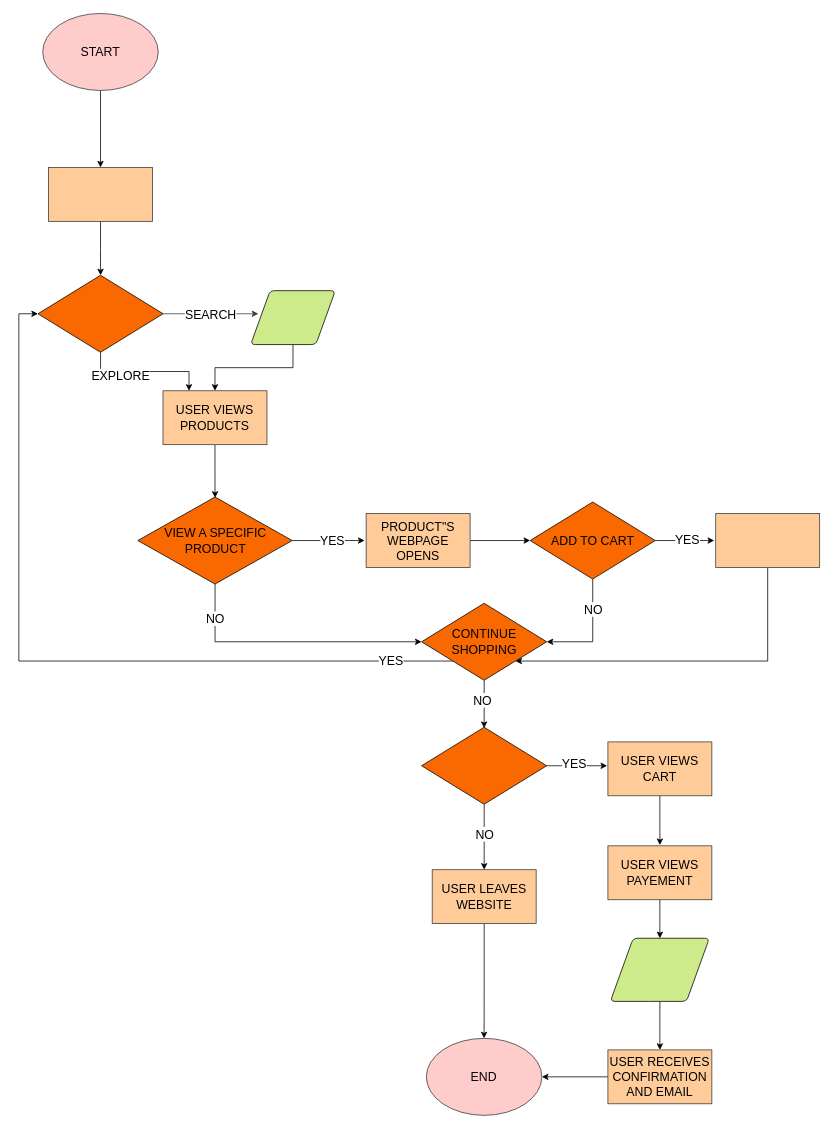
Some shapes in this 833 by 1129 pixel diagram are drawn without their labels. Each missing label, with the centre of its shape:
CHECKOUT: (484,765)
PAYMENT INPUT: (659,969)
SEARCH INPUT: (292,317)
SEE PRODUCTS: (100,313)
USER ENTERS WEBSITE: (100,194)
USER RECEIVES CONFIRMATION: (767,540)
